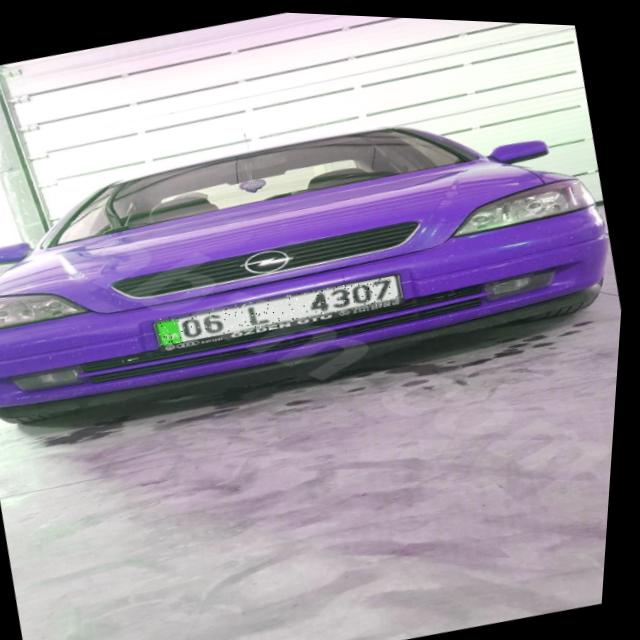license_plate: (156, 262, 407, 353)
